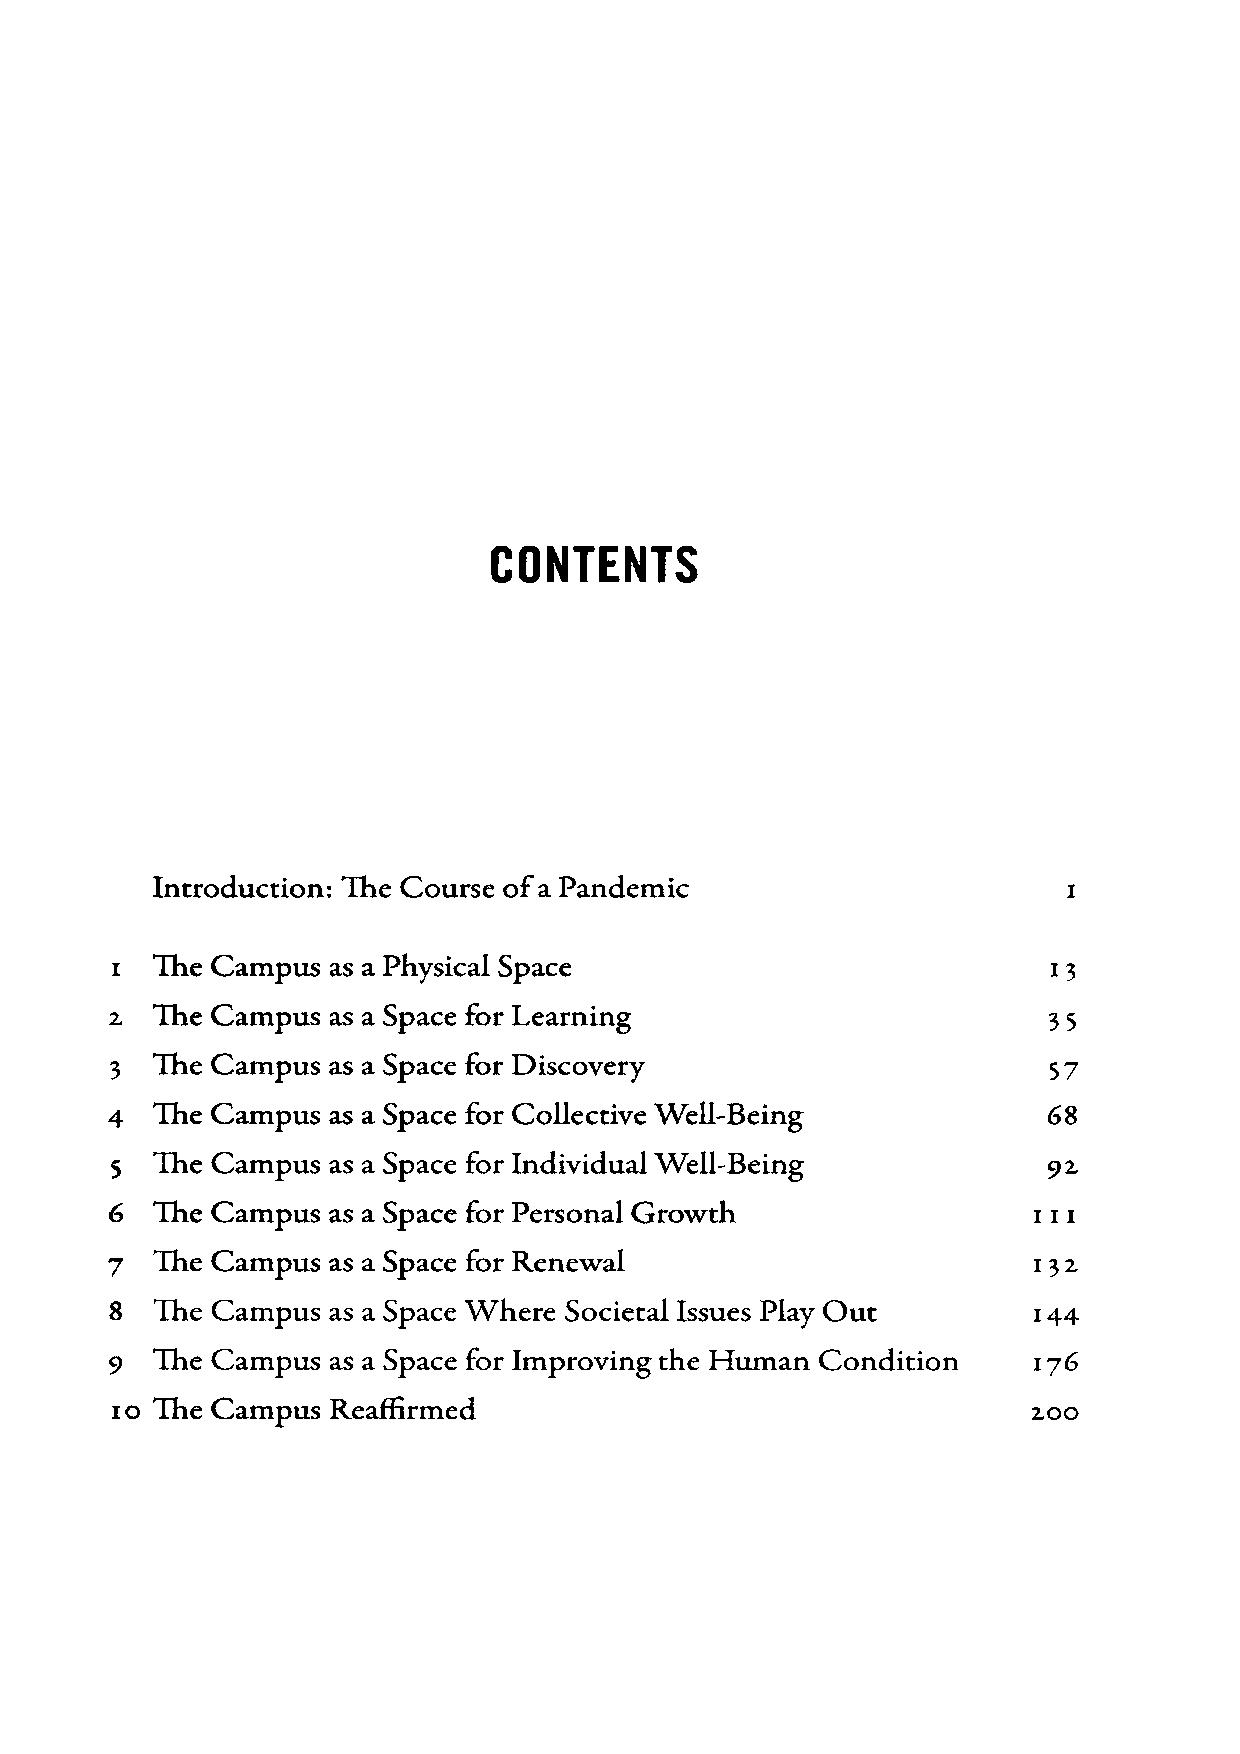TOC_chapter: (107, 1341, 960, 1380), (106, 1292, 878, 1330), (106, 1096, 805, 1133), (110, 1147, 803, 1184), (109, 1196, 737, 1233), (110, 1048, 645, 1083), (110, 998, 632, 1033), (106, 1247, 628, 1282), (149, 867, 694, 899), (110, 947, 574, 984), (111, 1392, 475, 1427)
TOC_pagenumber: (1024, 1248, 1084, 1280), (1025, 1398, 1082, 1424), (1028, 1351, 1084, 1376), (1029, 1202, 1078, 1228), (1027, 1304, 1083, 1326), (1044, 1052, 1080, 1084), (1039, 1151, 1080, 1177), (1045, 1007, 1082, 1035), (1045, 956, 1079, 981), (1048, 1099, 1078, 1127), (1056, 875, 1082, 900)
chapter: (484, 537, 699, 585)
